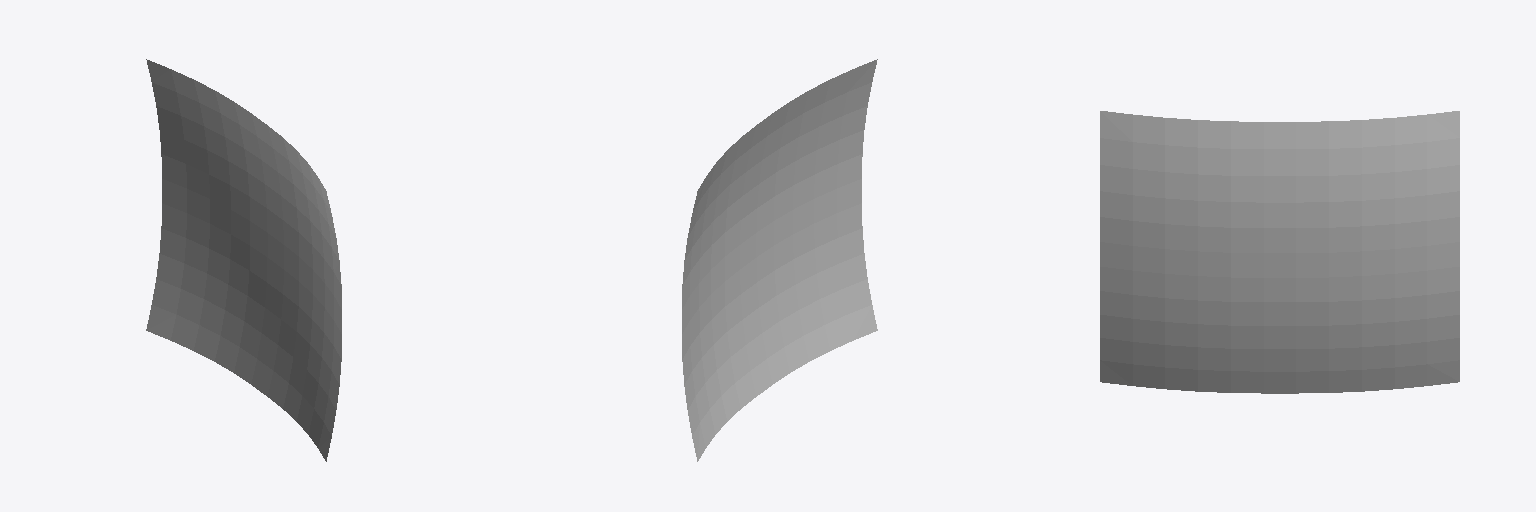
Rendered from ScreenCurved.obj.
3 renders of one model, left to right at view 1: azimuth 30°, elevation 25°; view 2: azimuth 150°, elevation 25°; view 3: azimuth 270°, elevation 25°, orthographic.
Visible parts, largest first — view 1: Screen_Cube.000; view 2: Screen_Cube.000; view 3: Screen_Cube.000.
Boxes of the visible parts, x1,y1,x2,y2 form: Screen_Cube.000: [146, 59, 341, 461]; Screen_Cube.000: [682, 59, 877, 461]; Screen_Cube.000: [1100, 111, 1459, 393].
Bounding box in the file's own units: 0.06 × 0.3951 × 0.4751.